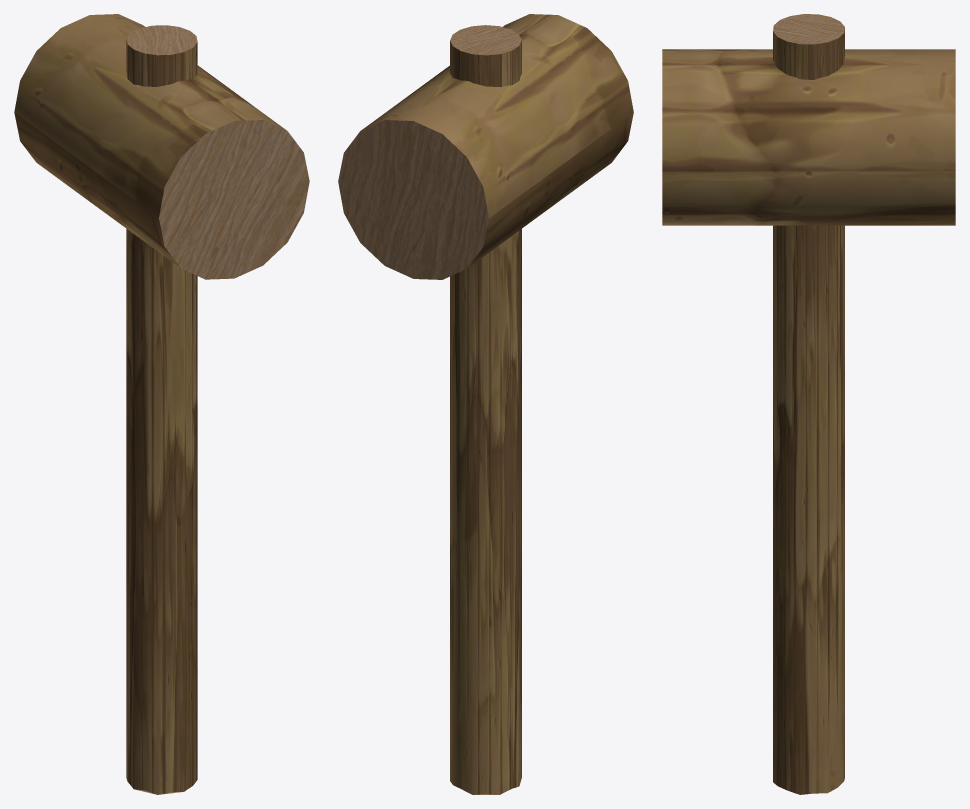
Rendered from WoodHammer.fbx.
3 renders of one model, left to right at view 1: azimuth 30°, elevation 25°; view 2: azimuth 150°, elevation 25°; view 3: azimuth 270°, elevation 25°, orthographic.
Parts seen in each view (by area): view 1: WoodHammer; view 2: WoodHammer; view 3: WoodHammer.
Part boxes in pixels (x1,y1,x2,y2): WoodHammer: (14, 14, 309, 794); WoodHammer: (338, 14, 633, 794); WoodHammer: (662, 14, 955, 794).
Size of the model in its own units: 32.03 by 150 by 53.24.
